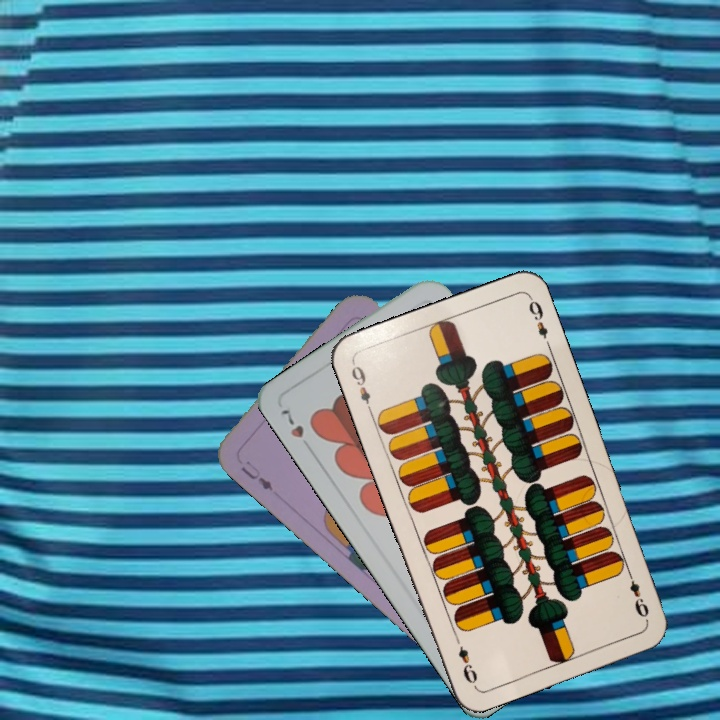E9: (347, 358, 375, 416), (623, 566, 652, 621)
EU: (236, 456, 276, 493)
H7: (276, 405, 315, 455)
